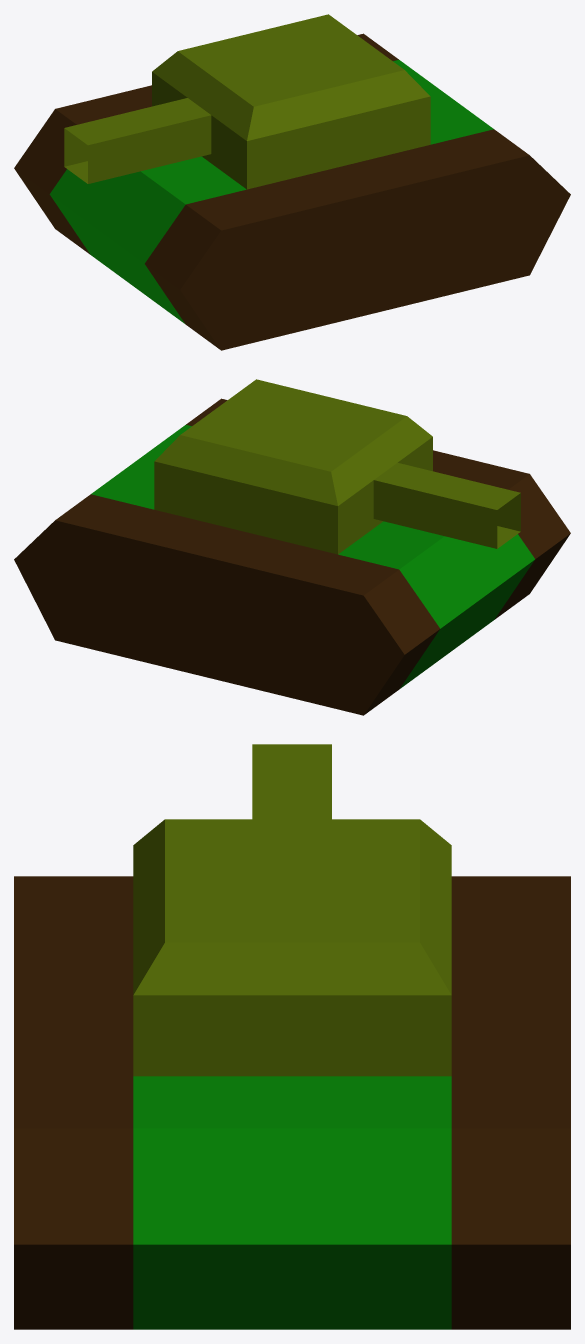
File: tank_1_2.glb
The picture shows the model from 3 angles, top to bottom: view 1: azimuth 30°, elevation 25°; view 2: azimuth 150°, elevation 25°; view 3: azimuth 270°, elevation 25°; orthographic projection. The views are drawn at different scales.
Visible parts, largest first — view 1: tank_green_2; view 2: tank_green_2; view 3: tank_green_2.
Part boxes in pixels (box(x1,y1,x2,y2)): tank_green_2: box(14, 14, 570, 350); tank_green_2: box(14, 379, 570, 715); tank_green_2: box(14, 744, 570, 1329).
Size of the model in its own units: 2 by 0.8918 by 1.4.
Materials: 1 (1 with a texture image).
